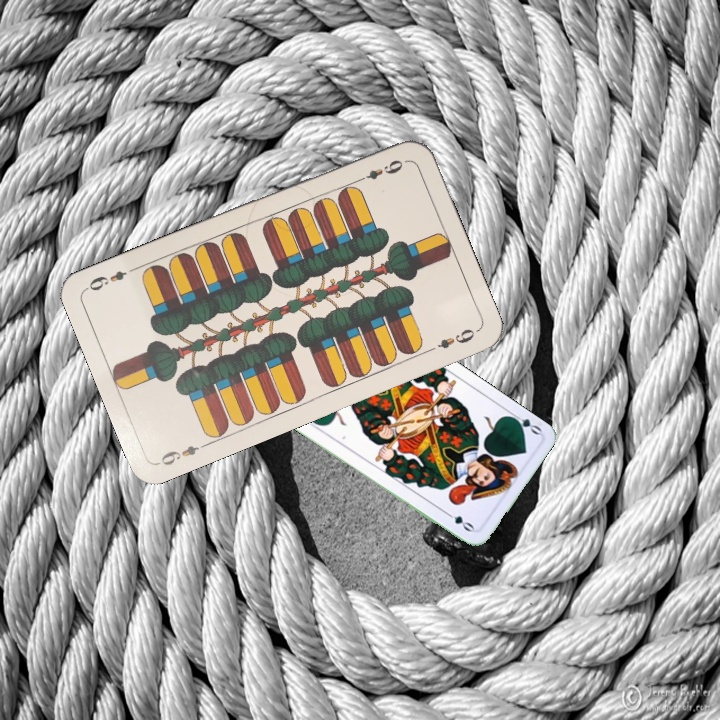E9: (154, 438, 211, 468), (352, 155, 406, 185)
GO: (505, 408, 544, 437)
